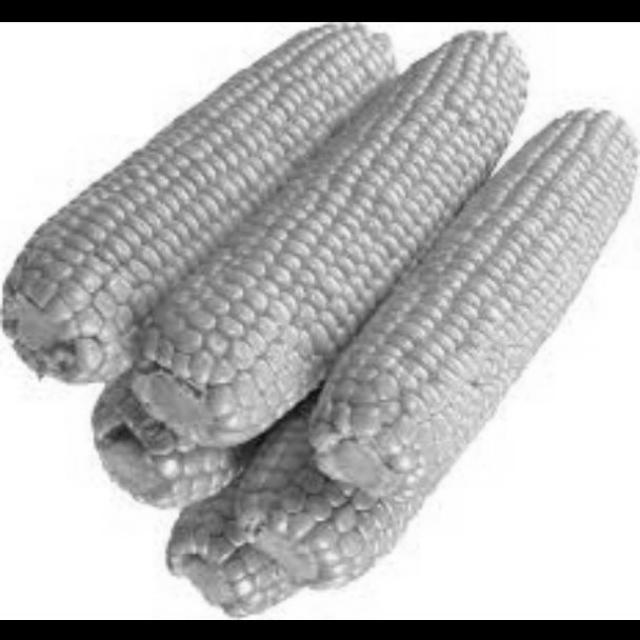ngu coc: (126, 32, 541, 444), (1, 21, 384, 382), (301, 121, 640, 502), (250, 408, 446, 584), (87, 358, 273, 518)
